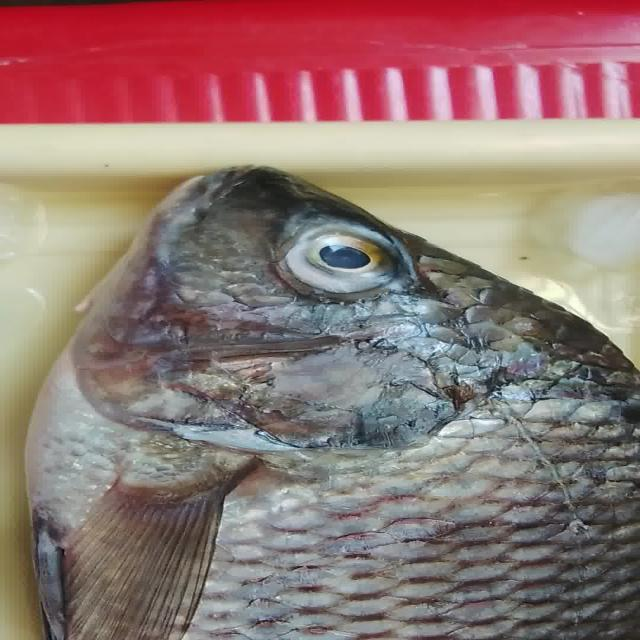Fresh: (6, 370, 640, 640), (243, 222, 448, 316)
